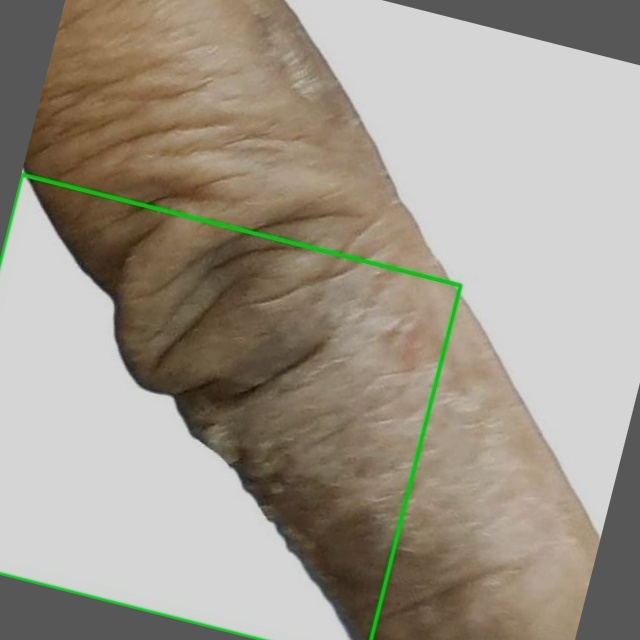Eczema: (0, 174, 460, 639)
